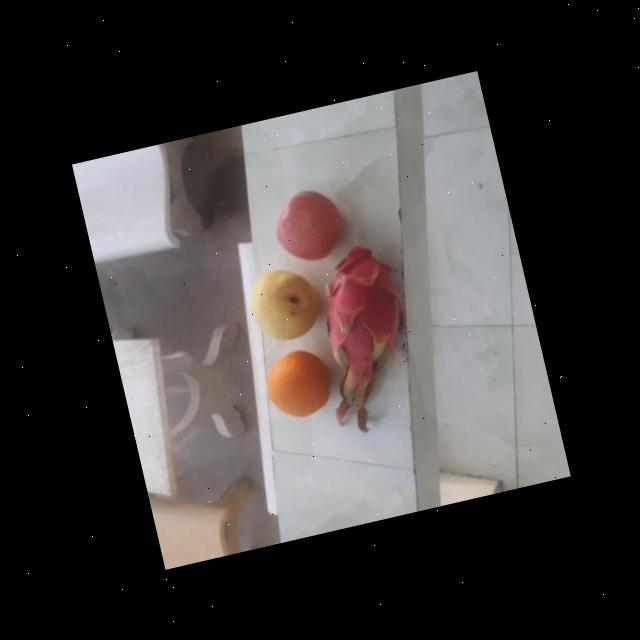orange: (256, 344, 336, 428)
pear: (241, 257, 326, 350)
pitaya: (306, 230, 419, 378)
